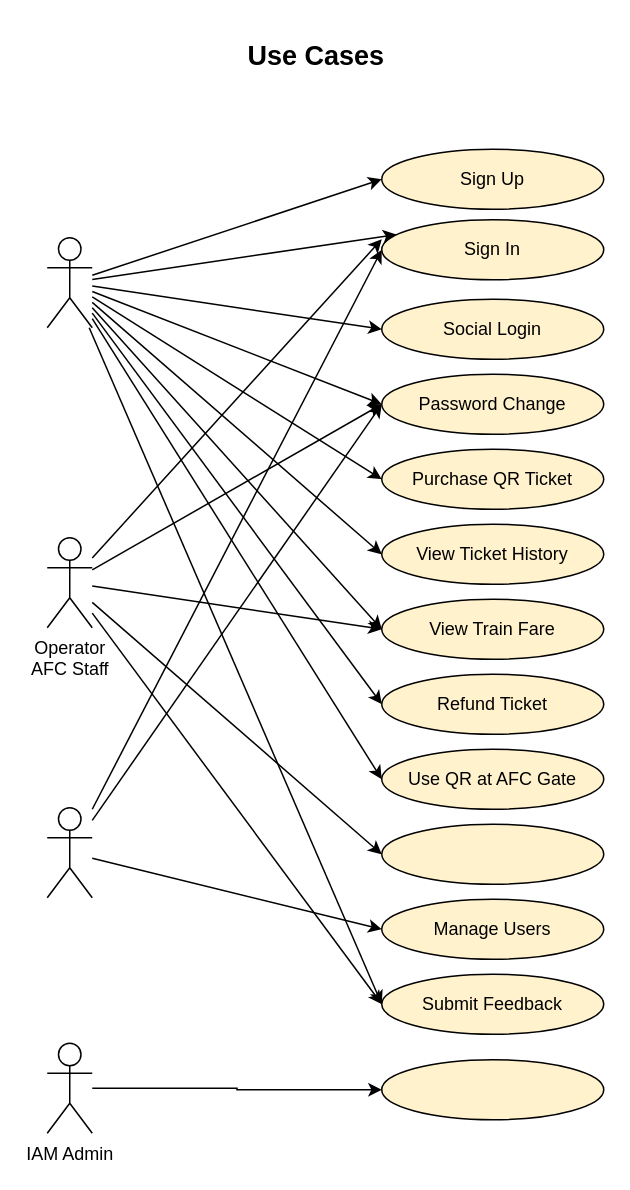
Image size: 630x1190. Some labels were removed from this diagram. Each missing label, with the centre of its shape:
"Commuter" goes at pixel 69 282.
"Entry/Exit at Validator App (on behalf commuter)" goes at pixel 492 853.
"Manage IAM" goes at pixel 492 1089.
"Sys Admin" goes at pixel 69 852.
